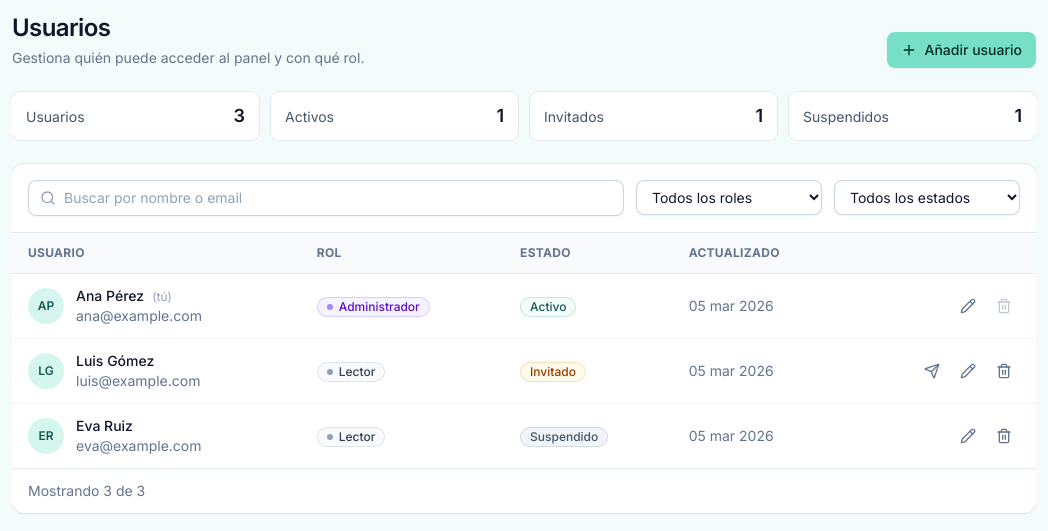
Test: UsersView › avisa cuando ningún usuario coincide
In the field named "Buscar usuarios": (326, 198) left=28, top=180, right=624, bottom=216, type "nadie"
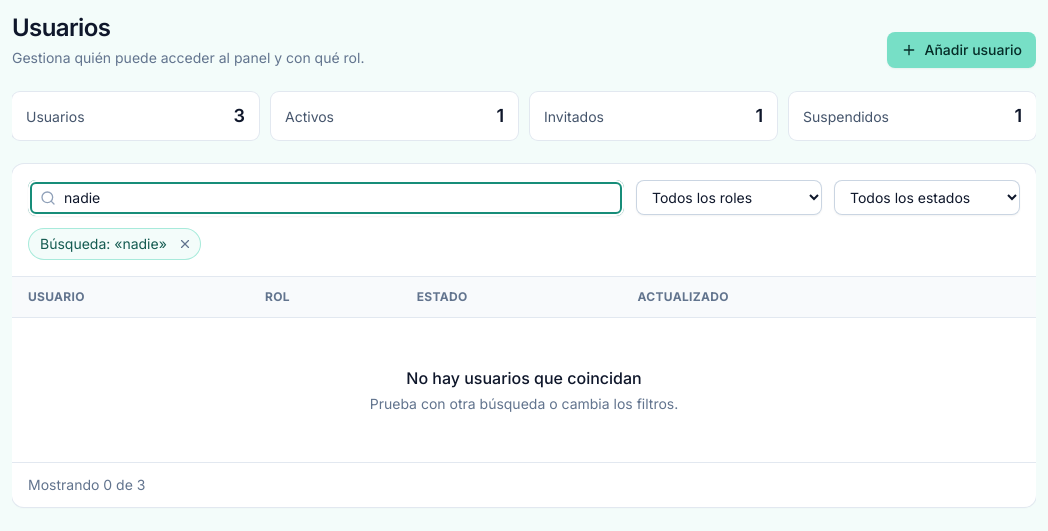
expect the text "No hay usuarios que coincidan" is shown: met, box left=406, top=368, right=642, bottom=388
